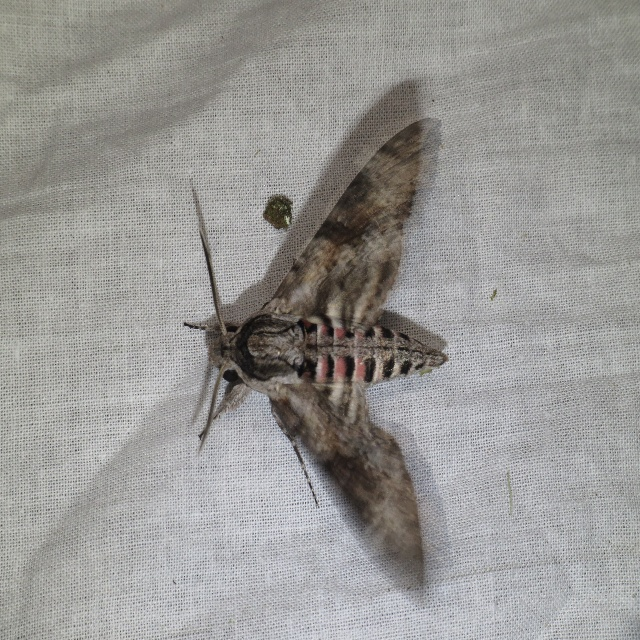Moths and butterflies: (182, 121, 451, 597)
